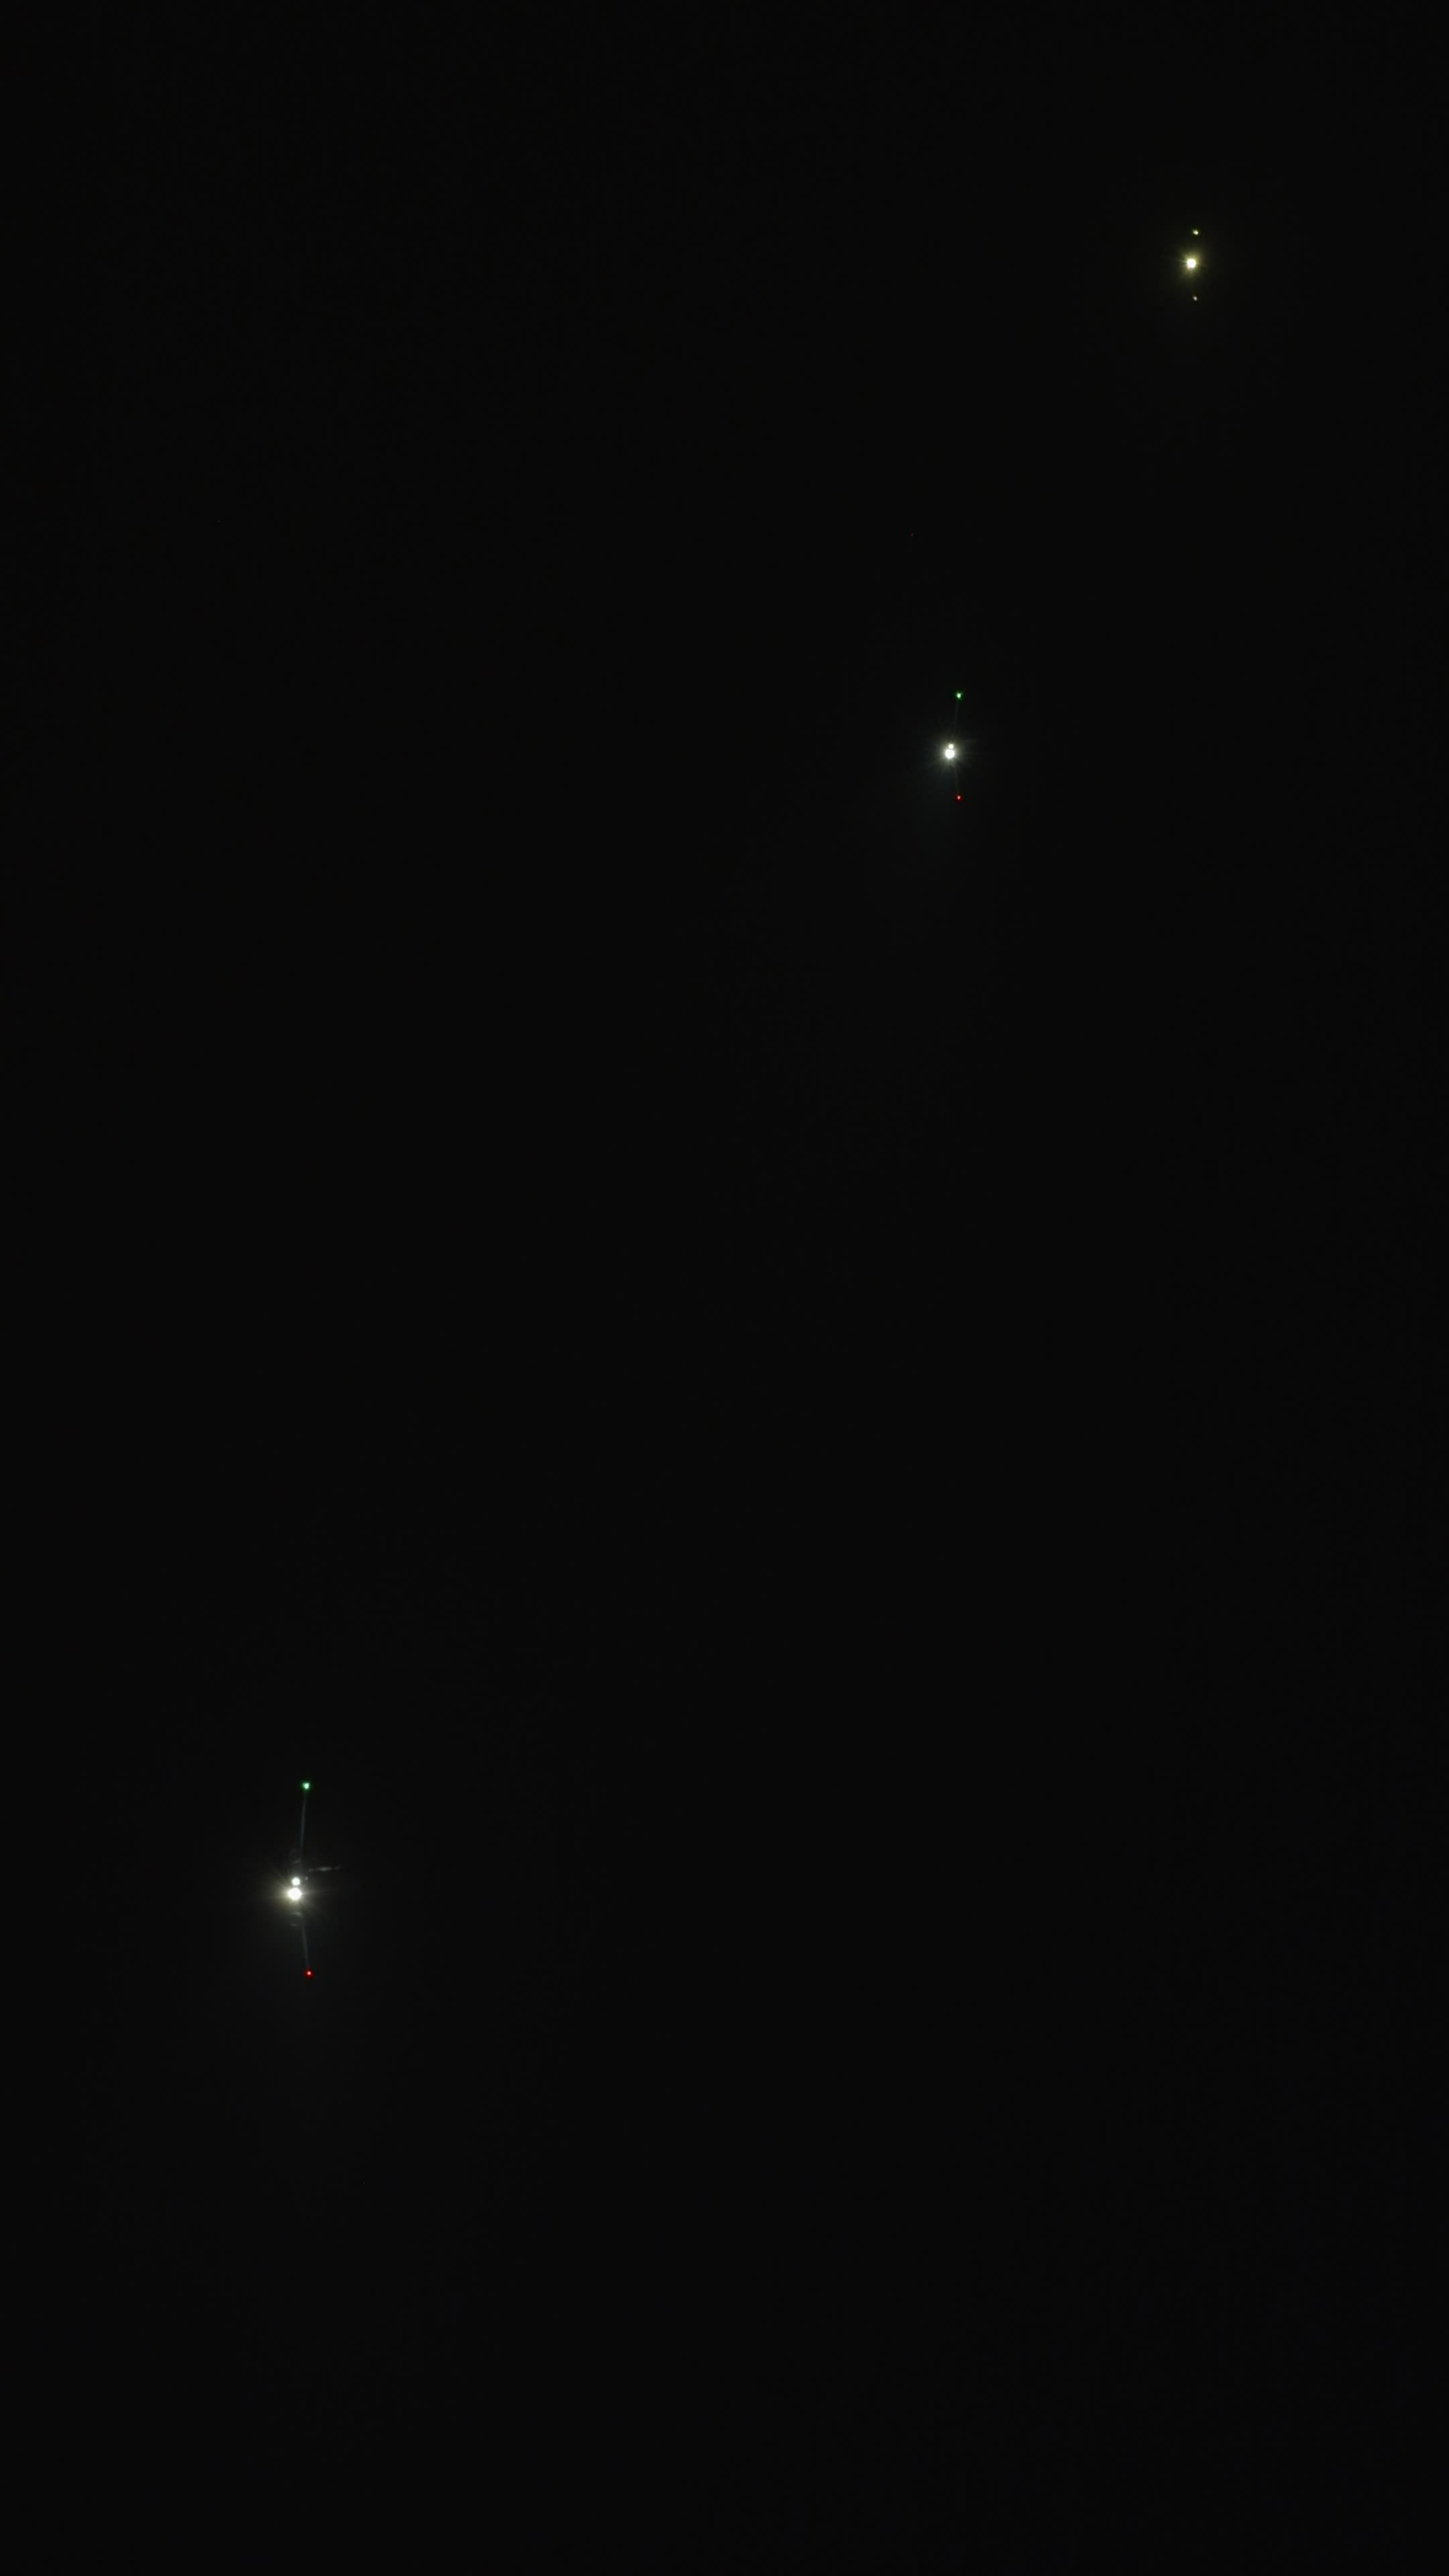Plane: (205, 1681, 393, 2068), (899, 669, 1008, 830), (1157, 191, 1231, 333)
